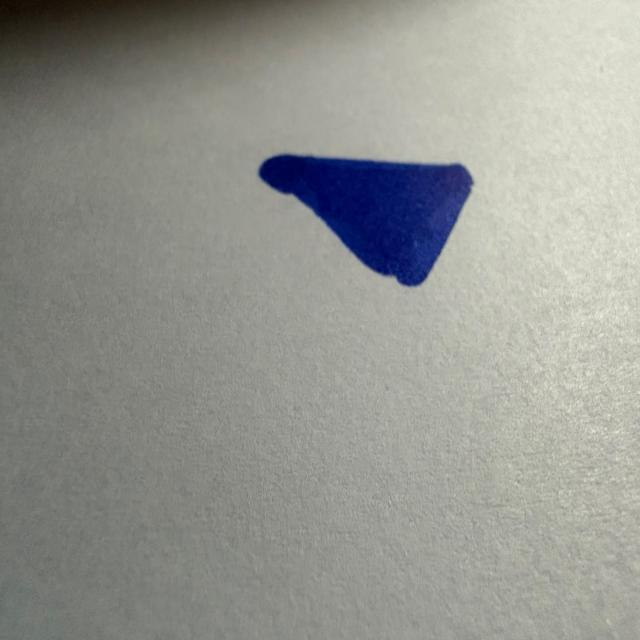Triangle: (258, 154, 473, 286)
